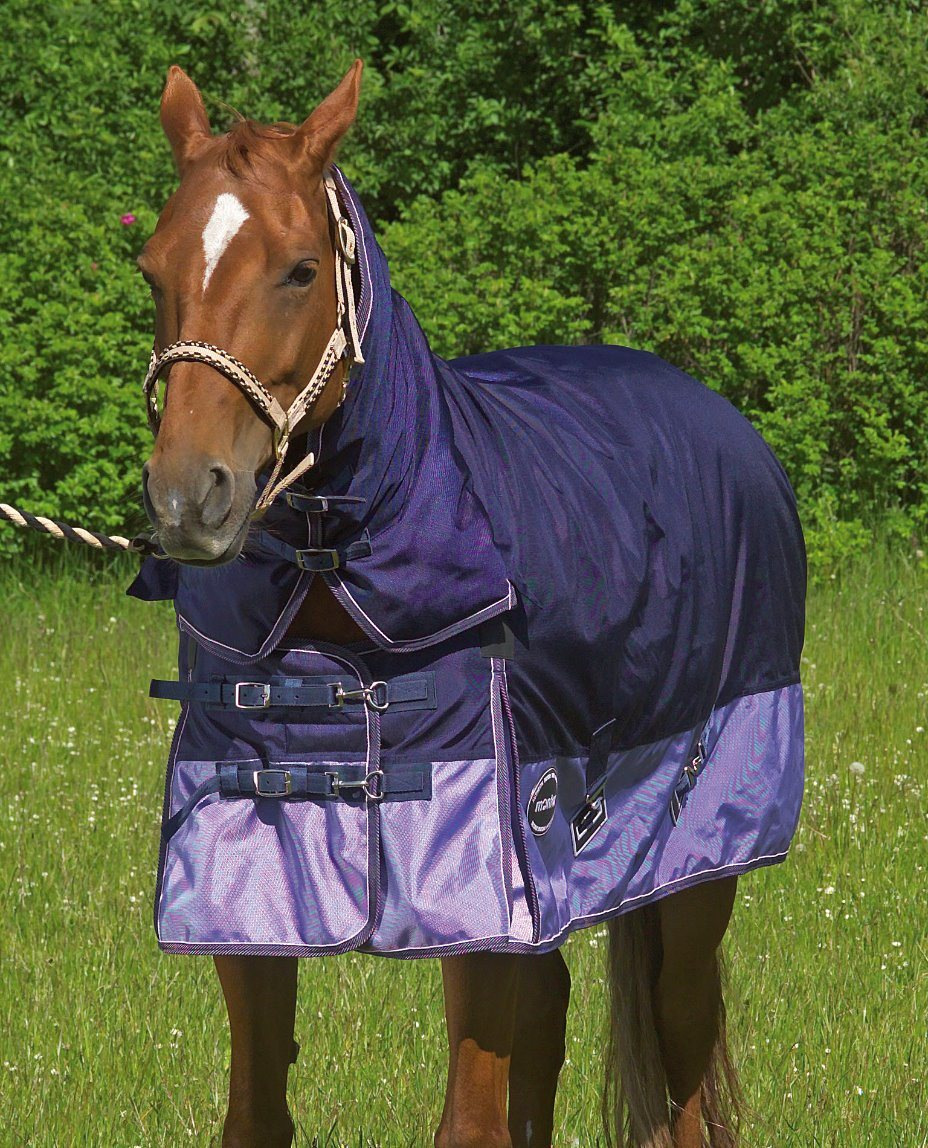Horse: (123, 64, 807, 1117)
